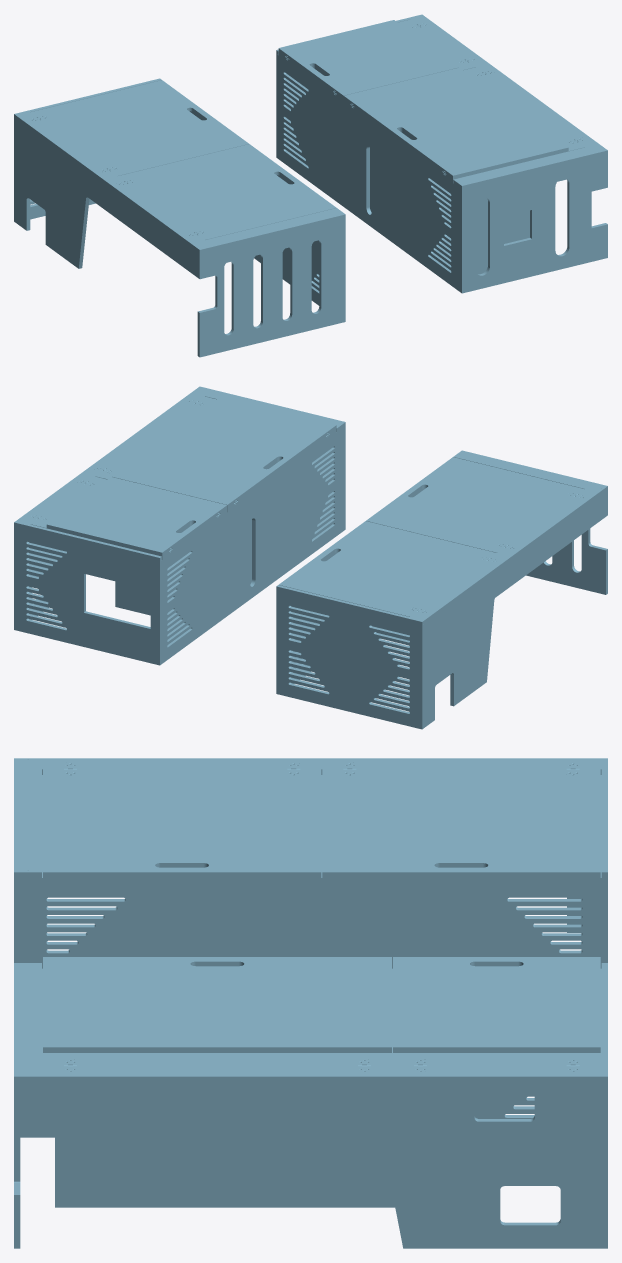
The model's file is bench-four.glb.
3 renders of one model, top to bottom at view 1: azimuth 30°, elevation 25°; view 2: azimuth 150°, elevation 25°; view 3: azimuth 270°, elevation 25°, orthographic. The views are drawn at different scales.
Visible parts, largest first — view 1: Document.001; view 2: Document.001; view 3: Document.001.
Boxes of the visible parts, left/top/right/bottom form: Document.001: left=14, top=14, right=607, bottom=357; Document.001: left=14, top=386, right=607, bottom=729; Document.001: left=14, top=758, right=607, bottom=1248.
Bounding box in the file's own units: 1.75 × 0.455 × 1.38.
